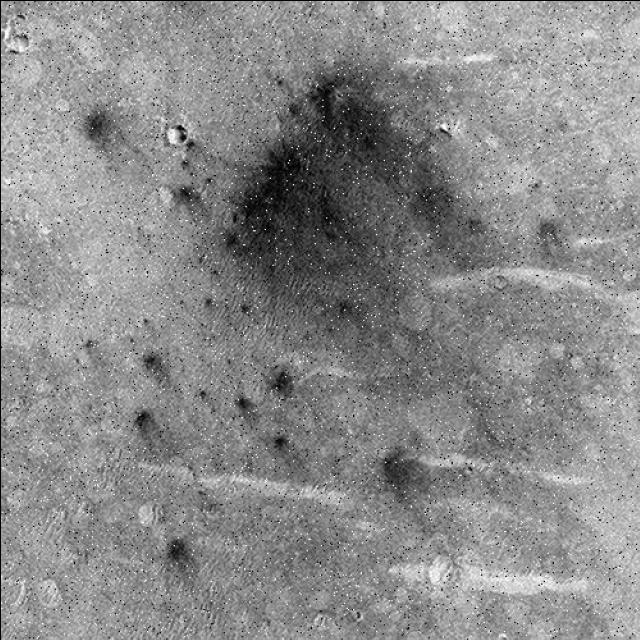crater: (160, 118, 188, 152), (628, 60, 640, 88), (330, 0, 350, 14)
